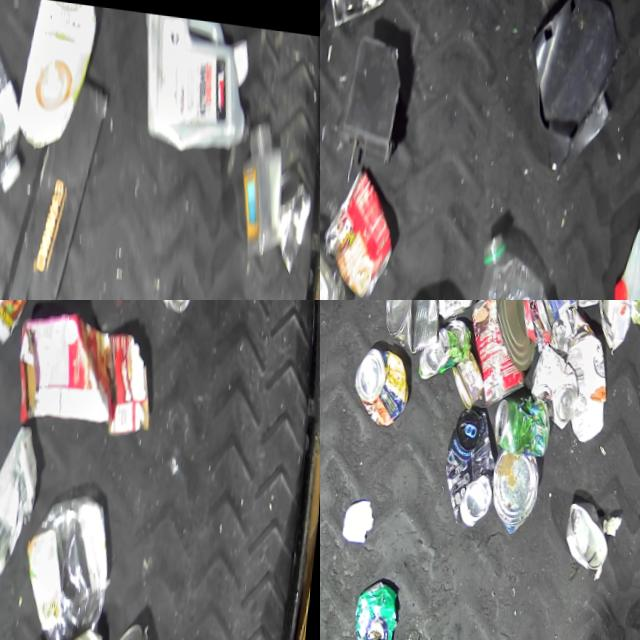can: (320, 161, 403, 298), (442, 399, 505, 523), (464, 300, 536, 402), (353, 339, 415, 424), (528, 335, 584, 423), (491, 443, 546, 529), (493, 384, 554, 451), (565, 492, 617, 567), (420, 309, 474, 378), (488, 300, 546, 363), (353, 573, 405, 640), (382, 300, 449, 351), (450, 343, 490, 404), (107, 611, 176, 640), (323, 0, 389, 30), (595, 300, 636, 343)
non_white_jug: (130, 4, 256, 152), (23, 484, 120, 640)
plastic_bottle: (464, 222, 587, 300), (0, 21, 35, 189)
